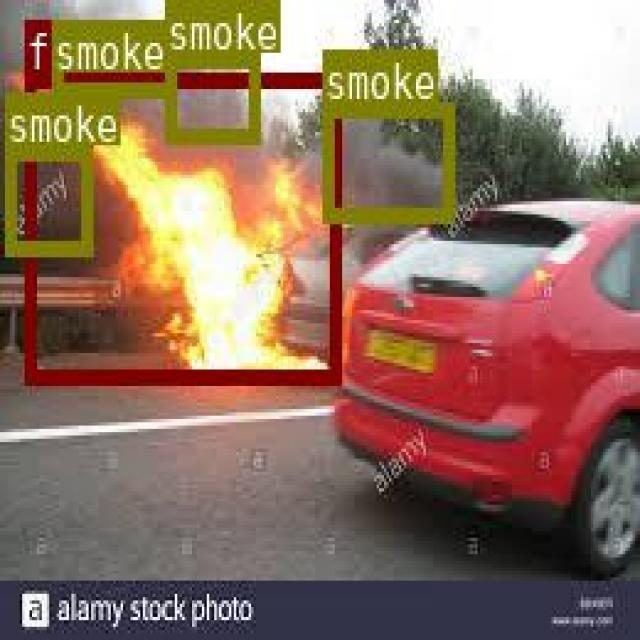fire: (23, 72, 338, 382)
smoke: (322, 101, 452, 220), (3, 142, 90, 251), (52, 17, 173, 94), (163, 52, 258, 140)
